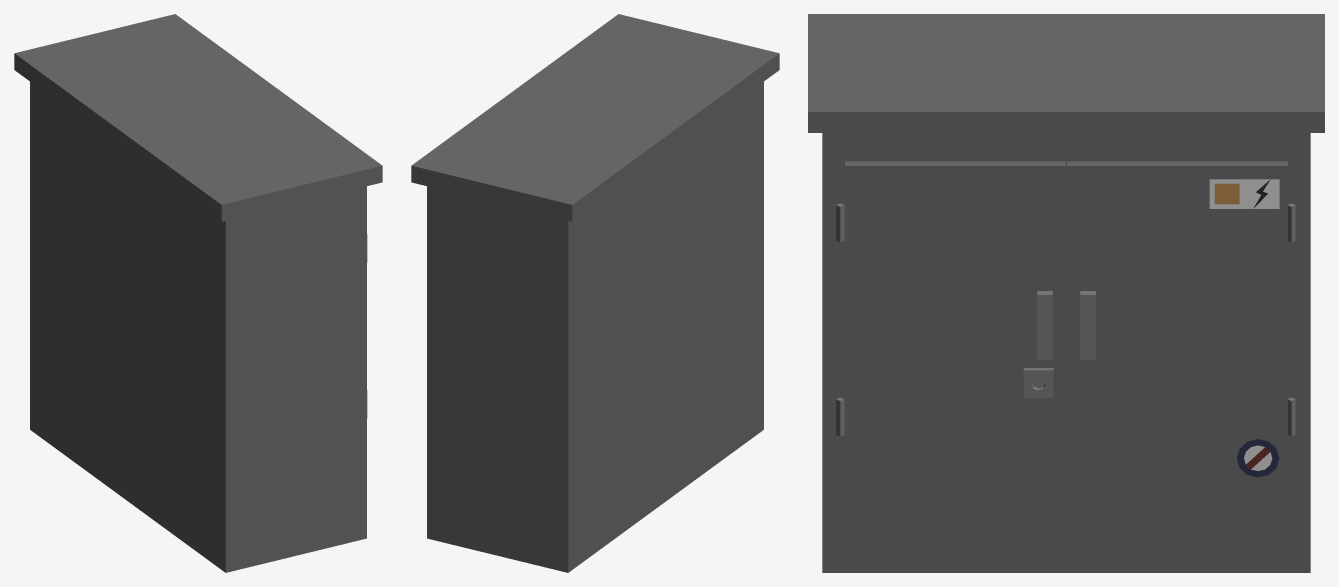
Rendered from SM_metal_box_2.gltf.
3 views of the same model, side by side, from view 1: azimuth 30°, elevation 25°; view 2: azimuth 150°, elevation 25°; view 3: azimuth 270°, elevation 25° (orthographic). The views are drawn at different scales.
Parts seen in each view (by area): view 1: SM_metal_box_2; view 2: SM_metal_box_2; view 3: SM_metal_box_2.
Boxes of the visible parts, <box> form: SM_metal_box_2: <box>14,14,382,572</box>; SM_metal_box_2: <box>411,14,779,572</box>; SM_metal_box_2: <box>808,14,1324,572</box>.
Bounding box in the file's own units: 0.4741 × 1.03 × 1.03.
1 material, 1 textured.
